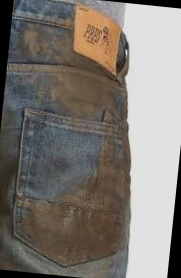earth: (30, 201, 124, 253), (60, 67, 112, 115), (19, 28, 72, 65), (94, 156, 130, 208)
